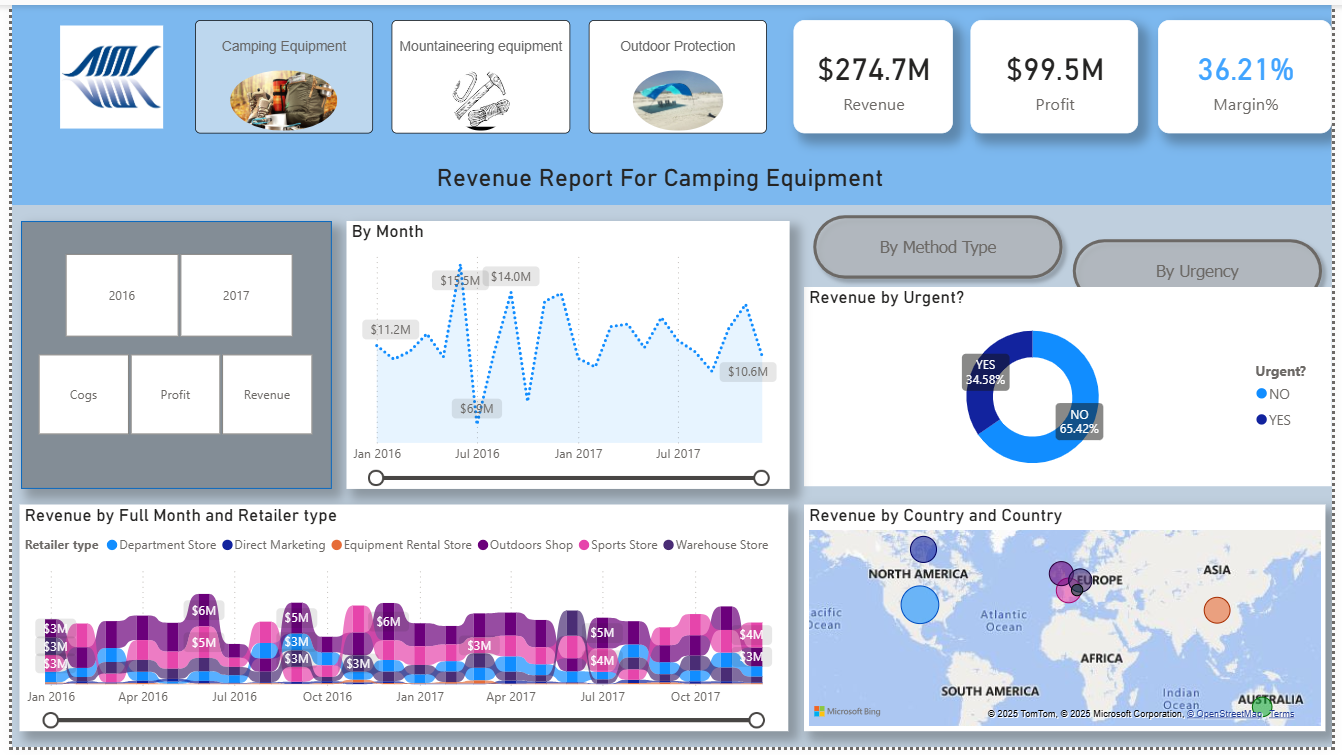

Layout of this report page (visuals, bound fields, positions):
{"tool":"powerbi","page":{"name":"Page 1","canvas":[1280,720],"ordinal":0},"visuals":[{"type":"card","title":"Card_Revenue","fields":{"Values":["Sum(Sales.Revenue)"]},"box":[757.8,14,154.4,110],"z":0,"group":"g3"},{"type":"group","id":"g1","title":"Bookmarks","box":[768,194,512,276.5],"z":0},{"type":"group","id":"g2","title":"Button","box":[768,194,512,104.5],"z":0,"group":"g1"},{"type":"group","id":"g3","title":"Report Title","box":[0,0,1280,194],"z":1000},{"type":"card","title":"Card_Profit","fields":{"Values":["Sum(Sales.Profit)"]},"box":[930.5,14,162.5,110],"z":1000,"group":"g3"},{"type":"actionButton","title":"B_Urgency","box":[768,217.4,259.9,79.5],"z":1000,"group":"g2"},{"type":"group","id":"g4","title":"Visuals","box":[768,274.5,512,196],"z":1000,"group":"g1"},{"type":"clusteredColumnChart","fields":{"Category":["Sales.Order method type"],"Y":["Sum(Sales.Revenue)"]},"box":[768,274.5,506,196],"z":1000,"group":"g4"},{"type":"shape","box":[8.3,210,301.7,260],"z":1500},{"type":"card","title":"Card_Margin","fields":{"Values":["Sales.Margin%"]},"box":[1111.4,14,168.6,110],"z":2000,"group":"g3"},{"type":"slicer","fields":{"Values":["Date.Year"]},"box":[26,234,270,94],"z":2000},{"type":"ChicletSlicer1448559807354","fields":{"Category":["ProductLineImages.Product Line"],"Image":["ProductLineImages.Image"]},"box":[162.5,0,583.1,194],"z":3000,"group":"g3"},{"type":"actionButton","title":"BB_OMT","box":[1020.1,194,259.9,79.5],"z":3000,"group":"g2"},{"type":"areaChart","fields":{"Category":["Date.Full Month"],"Y":["Sum(Sales.Revenue)"]},"box":[324,210,430,260],"z":3000},{"type":"card","title":"Report Title","fields":{"Values":["Sales.Measure"]},"box":[147.7,138,963.3,56],"z":4000,"group":"g3"},{"type":"ribbonChart","fields":{"Category":["Date.Full Month"],"Y":["Sum(Sales.Revenue)"],"Series":["Sales.Retailer type"]},"box":[8,484,746,220],"z":4000},{"type":"image","title":"Logo","box":[0,14,193.5,110],"z":5000,"group":"g3"},{"type":"map","fields":{"Category":["City.Country"],"Size":["Sum(Sales.Revenue)"],"Series":["City.Country"]},"box":[768,484,506,220],"z":5000},{"type":"slicer","fields":{"Values":["KPI.KPI"]},"box":[0,331.7,315,91.7],"z":6000}]}

Visuals, with their boxes in screenshot pixels (x1, y1, x2, y2), scaled from the page's 1280x720 canvas onto the 1342x755 screenshot:
"Card_Revenue" card: crop(795, 15, 956, 130)
"Bookmarks" group: crop(805, 203, 1341, 493)
"Button" group: crop(805, 203, 1341, 313)
"Report Title" group: crop(0, 0, 1341, 203)
"Card_Profit" card: crop(976, 15, 1146, 130)
"B_Urgency" actionButton: crop(805, 228, 1078, 311)
"Visuals" group: crop(805, 288, 1341, 493)
clusteredColumnChart - Sales.Order method type x Sum(Sales.Revenue): crop(805, 288, 1336, 493)
shape: crop(9, 220, 325, 493)
"Card_Margin" card: crop(1165, 15, 1341, 130)
slicer - Date.Year: crop(27, 245, 310, 344)
ChicletSlicer1448559807354 - ProductLineImages.Product Line x ProductLineImages.Image: crop(170, 0, 782, 203)
"BB_OMT" actionButton: crop(1070, 203, 1341, 287)
areaChart - Date.Full Month x Sum(Sales.Revenue): crop(340, 220, 791, 493)
"Report Title" card: crop(155, 145, 1165, 203)
ribbonChart - Date.Full Month x Sum(Sales.Revenue): crop(8, 508, 791, 738)
"Logo" image: crop(0, 15, 203, 130)
map - City.Country x Sum(Sales.Revenue): crop(805, 508, 1336, 738)
slicer - KPI.KPI: crop(0, 348, 330, 444)
